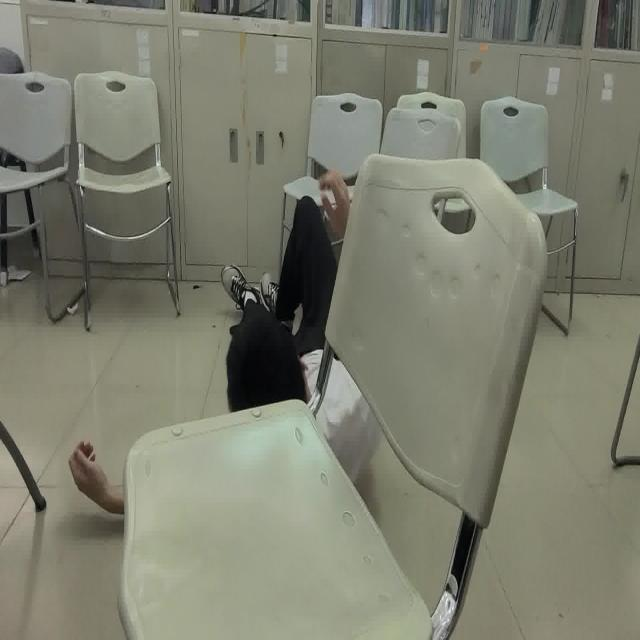fall: (65, 161, 383, 548)
